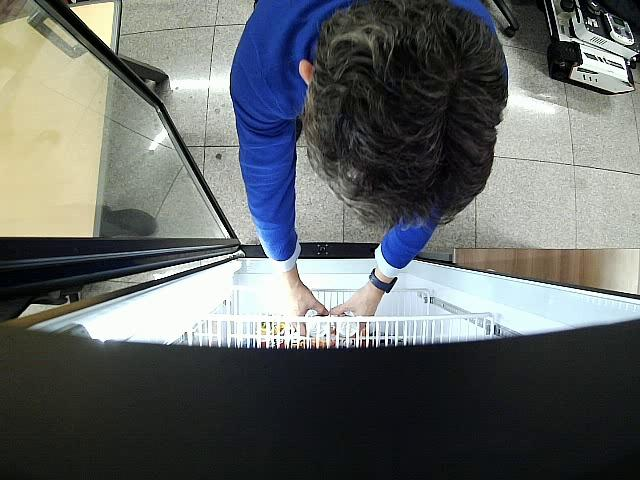00_hand: (278, 274, 327, 336), (330, 291, 381, 332)
